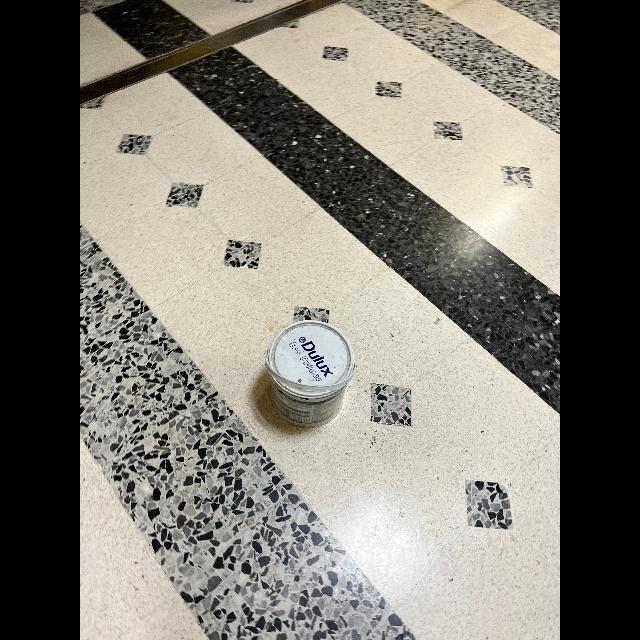paint_bucket: (258, 315, 362, 431)
